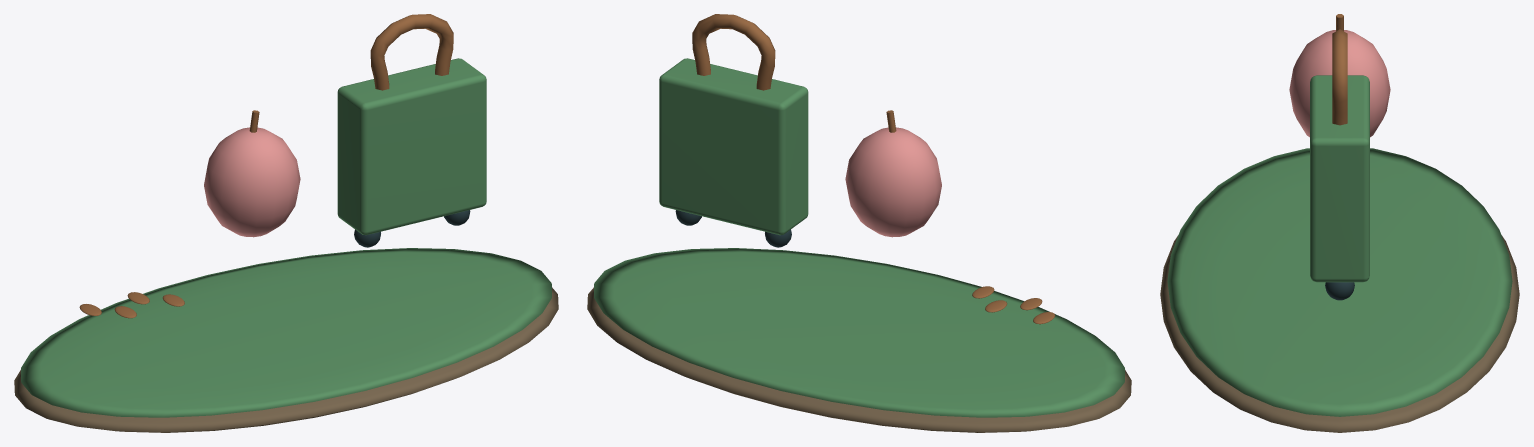
Rendered from travel-suitcase.glb.
The picture shows the model from 3 angles, left to right: view 1: azimuth 30°, elevation 25°; view 2: azimuth 150°, elevation 25°; view 3: azimuth 270°, elevation 25°; orthographic projection. The views are drawn at different scales.
Parts seen in each view (by area): view 1: travel-suitcase_surface_01, travel-suitcase_surface_00, travel-suitcase_surface_03, travel-suitcase_surface_02, travel-suitcase_surface_04; view 2: travel-suitcase_surface_01, travel-suitcase_surface_00, travel-suitcase_surface_03, travel-suitcase_surface_02, travel-suitcase_surface_04; view 3: travel-suitcase_surface_01, travel-suitcase_surface_00, travel-suitcase_surface_03, travel-suitcase_surface_02, travel-suitcase_surface_04.
Boxes of the visible parts, <box> form: travel-suitcase_surface_01: <box>21,58,551,417</box>; travel-suitcase_surface_00: <box>14,287,558,432</box>; travel-suitcase_surface_03: <box>204,127,300,237</box>; travel-suitcase_surface_02: <box>79,14,453,318</box>; travel-suitcase_surface_04: <box>354,210,470,247</box>; travel-suitcase_surface_01: <box>594,58,1124,417</box>; travel-suitcase_surface_00: <box>587,287,1131,432</box>; travel-suitcase_surface_03: <box>845,127,941,237</box>; travel-suitcase_surface_02: <box>692,14,1055,324</box>; travel-suitcase_surface_04: <box>675,210,791,247</box>; travel-suitcase_surface_01: <box>1167,75,1512,416</box>; travel-suitcase_surface_00: <box>1160,236,1519,432</box>; travel-suitcase_surface_03: <box>1289,30,1390,137</box>; travel-suitcase_surface_02: <box>1332,14,1347,125</box>; travel-suitcase_surface_04: <box>1325,282,1354,300</box>.
Bounding box in the file's own units: 4.56 × 2.63 × 2.5.
